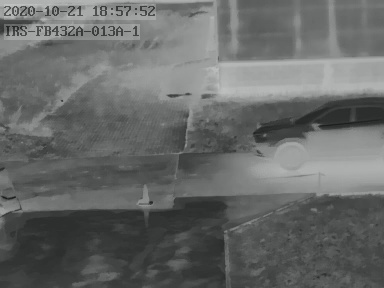vehicle: (250, 98, 383, 175)
